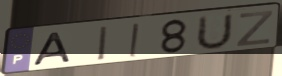8: (159, 17, 191, 56)
A: (31, 30, 74, 68)
I: (96, 24, 110, 63), (127, 21, 141, 59)
U: (193, 12, 235, 53)
Z: (234, 9, 275, 48)
